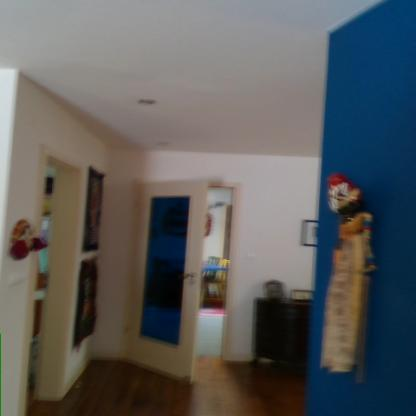semi: (125, 172, 250, 381)
